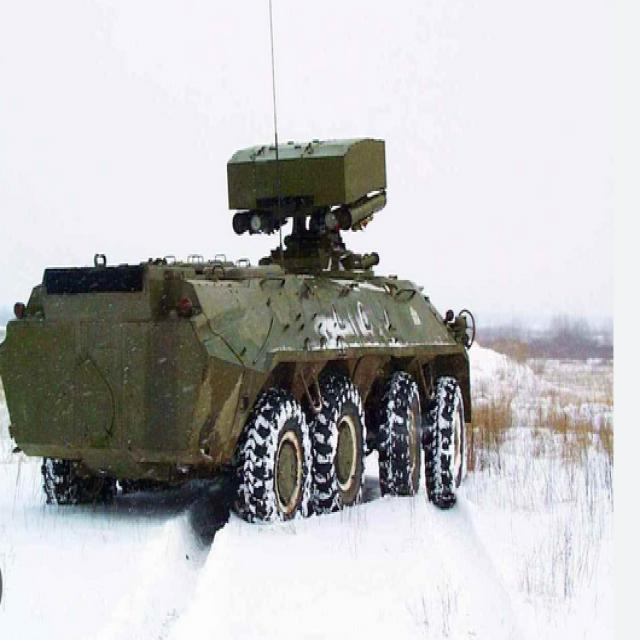MIL_APC: (0, 120, 482, 528)
